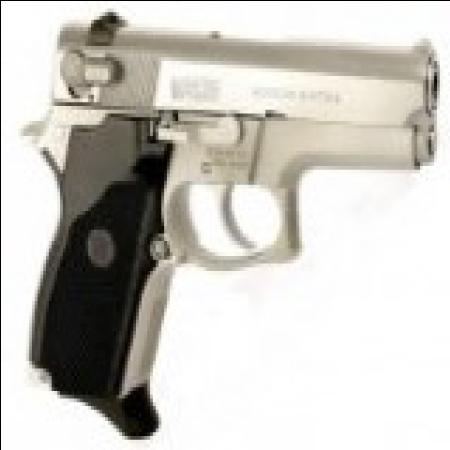Pistol: (20, 7, 442, 435)
